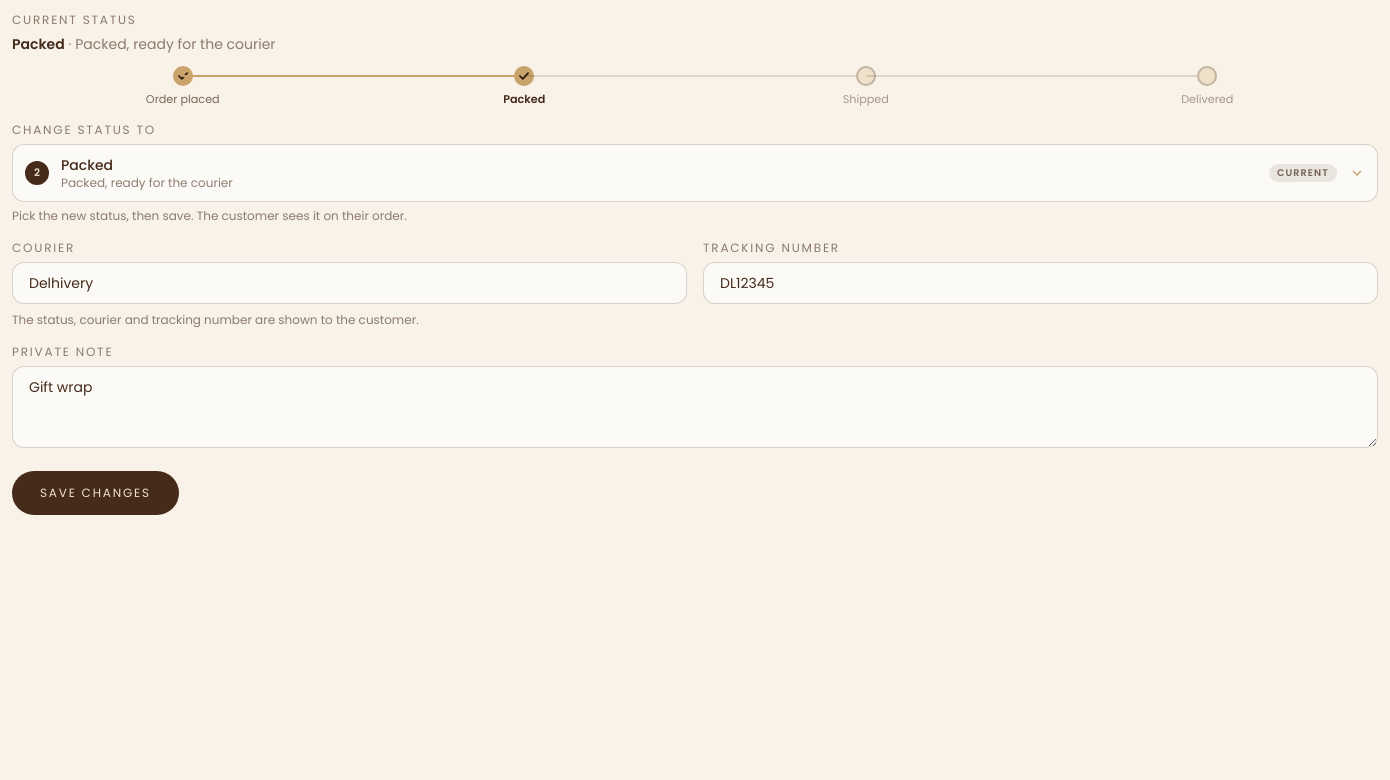
it: OrderUpdateForm › choosing Cancelled warns that items go back in stock and money isn't refunded by itself
What coordinates should you click on to do the following:
click the dropdown named "Change status to"
I would click on:
 (87, 165)
Its box is [12,144,1378,202].
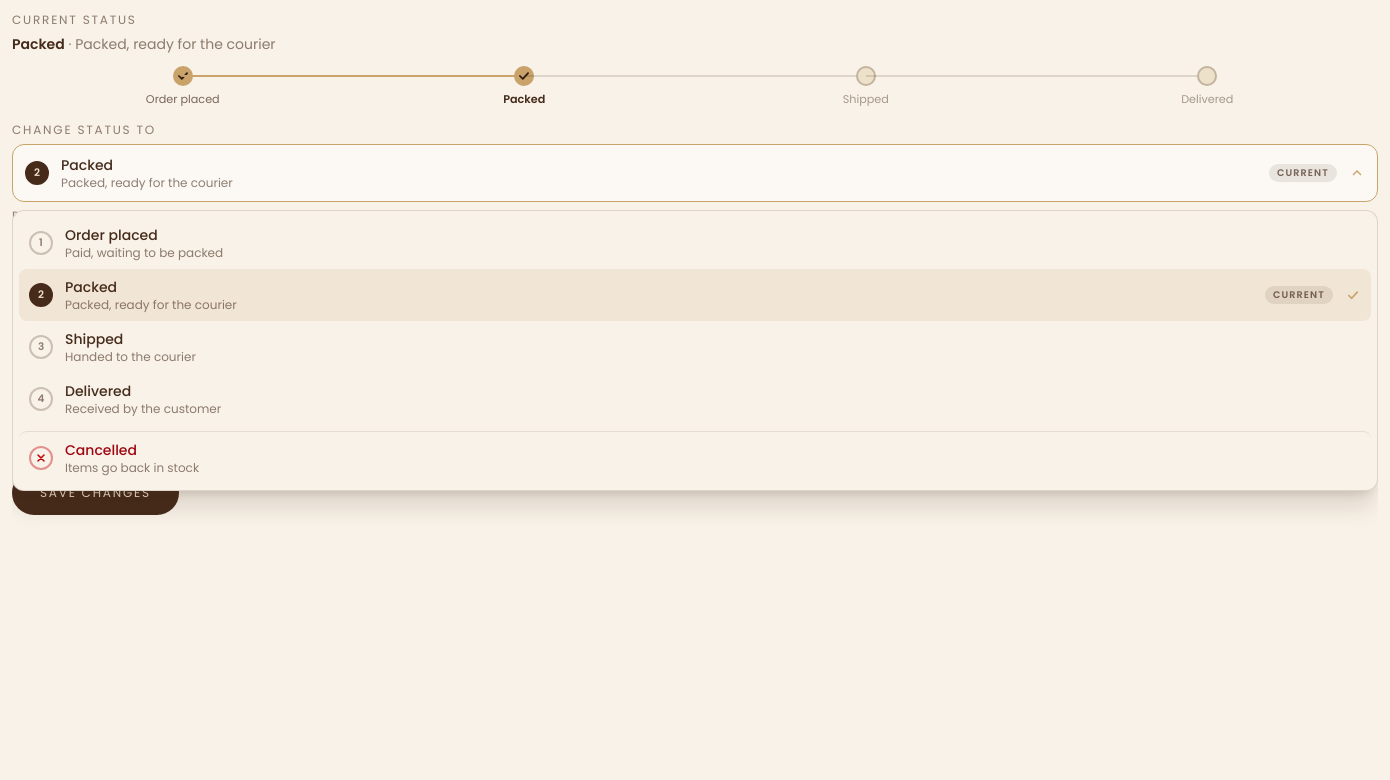
What coordinates should you click on to do the following:
click the option "Cancelled Items go back in stock"
I would click on:
 (101, 450)
Its box is [19,431,1371,484].
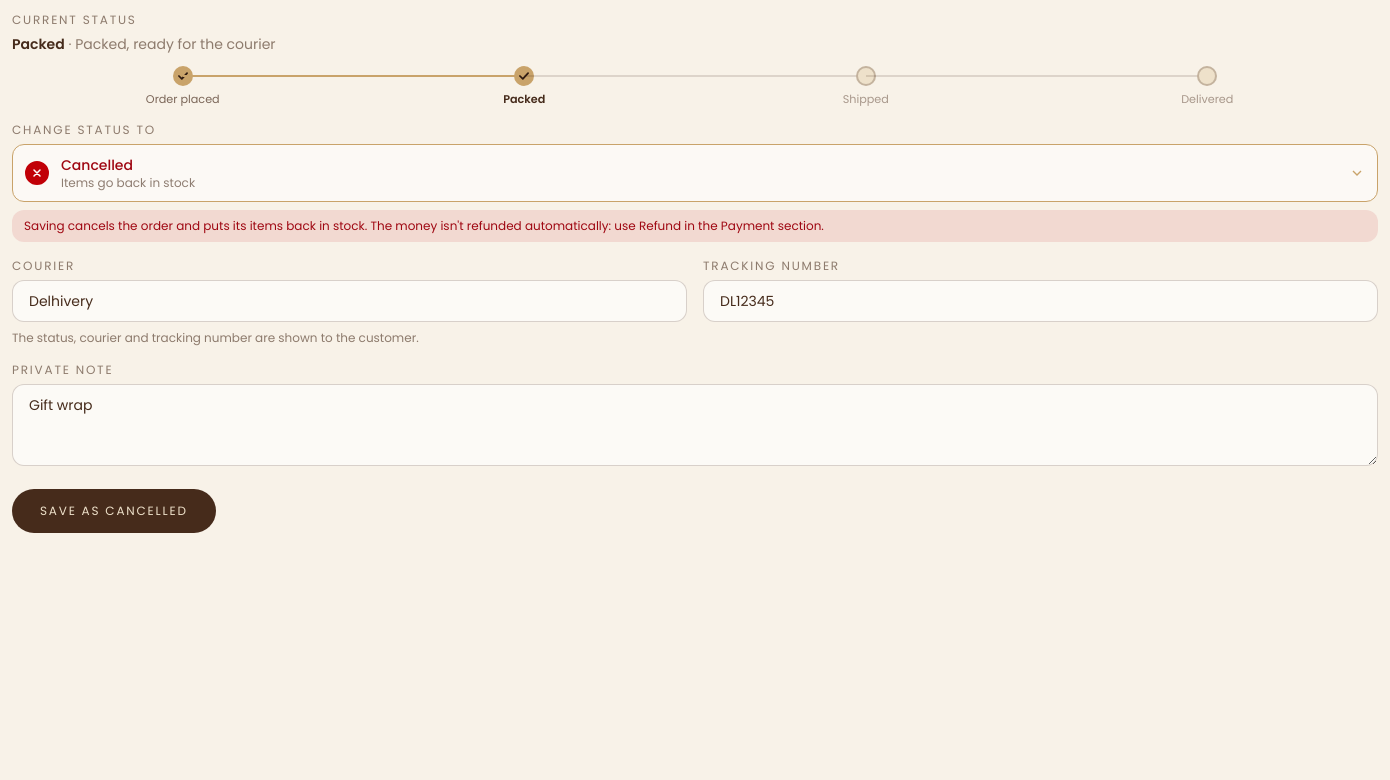
Check: the text "Saving cancels the order" shows "The money isn't refunded automatically", box [367,217,824,234]
